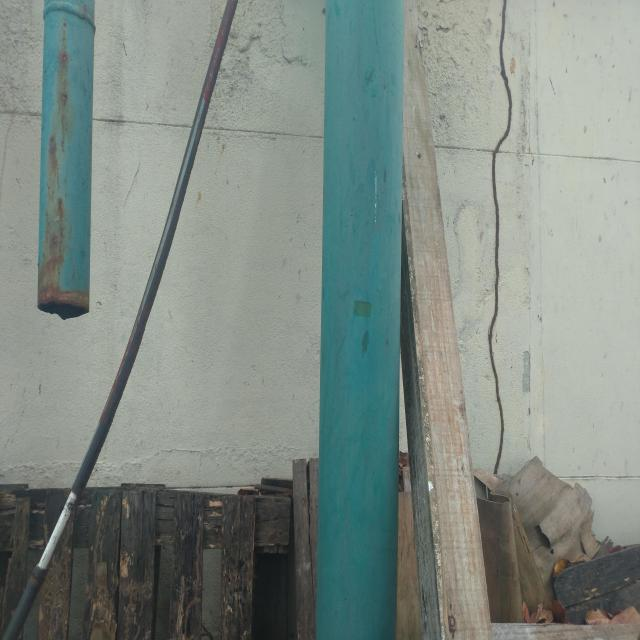gas: (32, 0, 98, 317)
